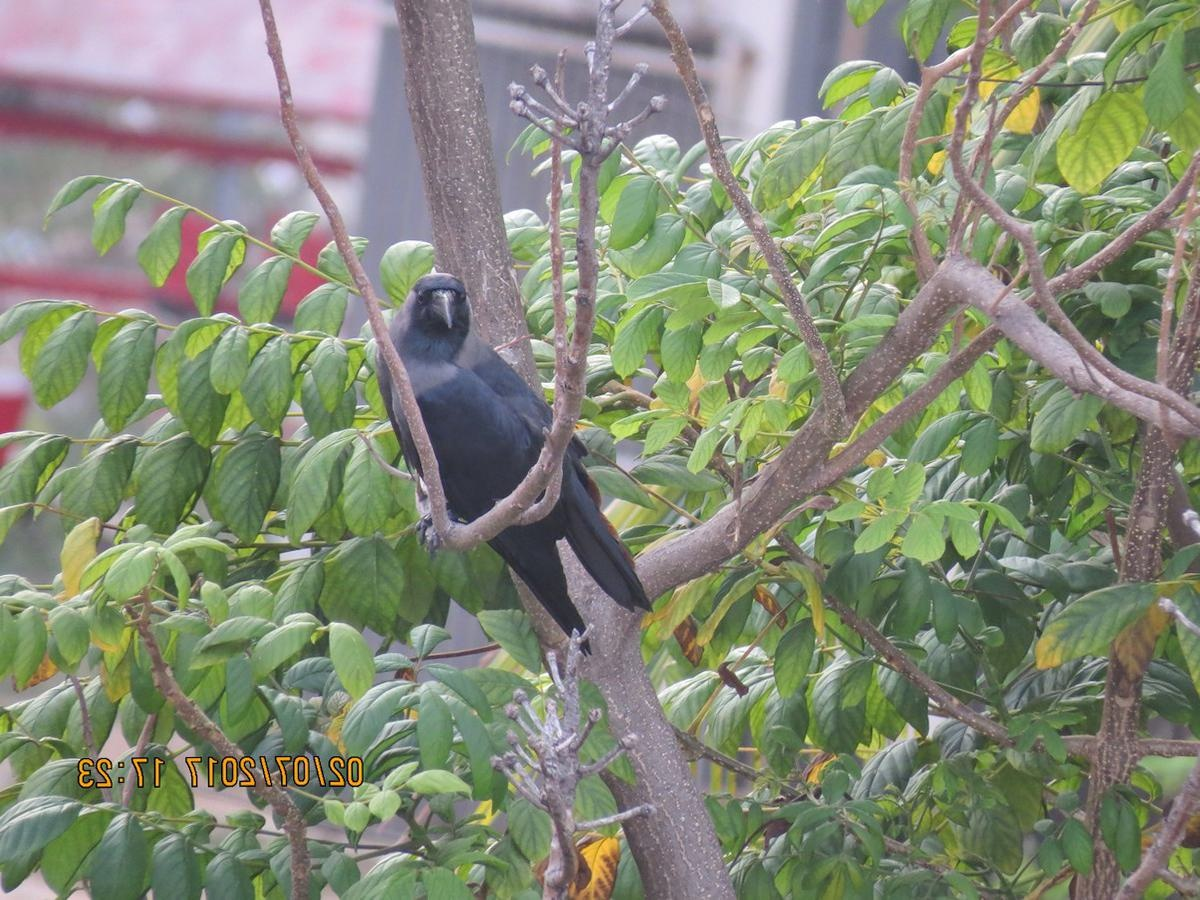crow: (374, 270, 676, 649)
